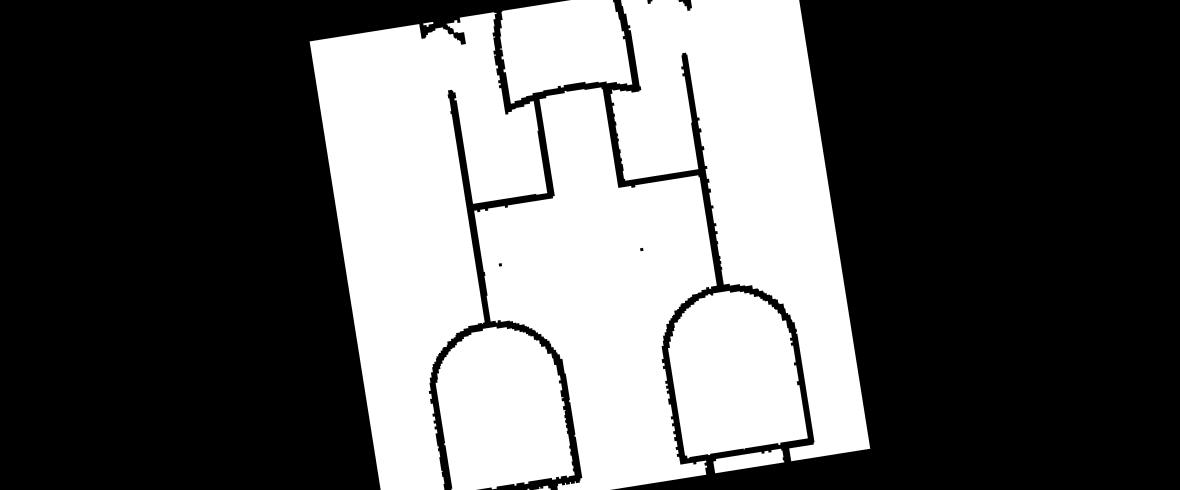and: (642, 255, 828, 480), (408, 292, 593, 490)
nor: (478, 0, 653, 130)
